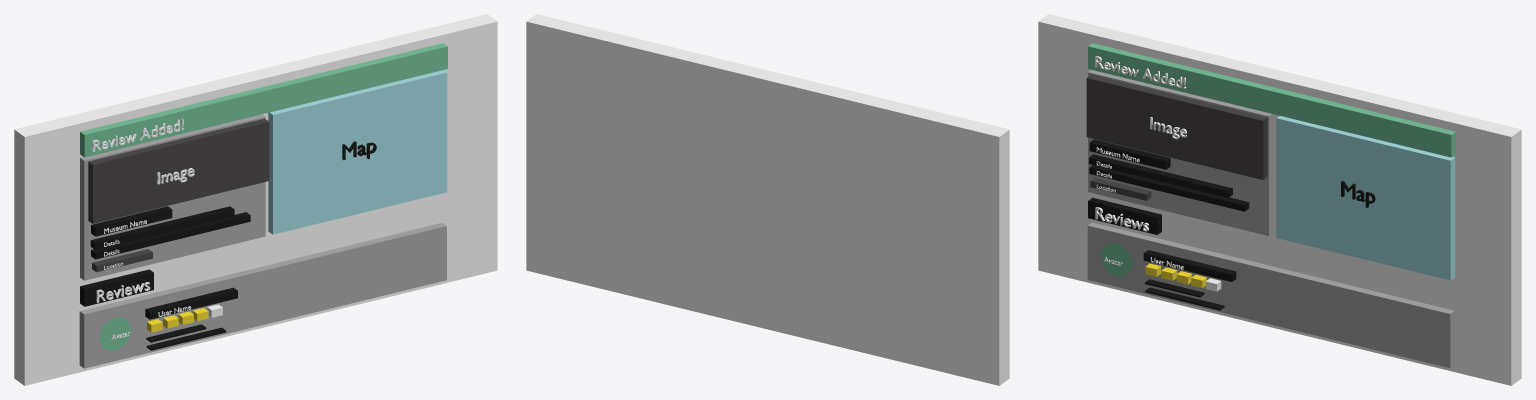
3 renders of one model, left to right at view 1: azimuth 30°, elevation 25°; view 2: azimuth 150°, elevation 25°; view 3: azimuth 330°, elevation 25°, orthographic.
Visible parts, largest first — view 1: Cube, Text, Text.007; view 2: Cube; view 3: Cube, Text, Text.007.
Part boxes in pixels (bbox=[...]): Cube: bbox=[14, 14, 497, 385]; Text: bbox=[92, 118, 183, 151]; Text.007: bbox=[96, 282, 150, 302]; Cube: bbox=[526, 14, 1009, 385]; Cube: bbox=[1038, 14, 1521, 385]; Text: bbox=[1095, 56, 1186, 88]; Text.007: bbox=[1095, 207, 1149, 231].
Size of the model in its own units: 20.43 by 10.27 by 1.61.
